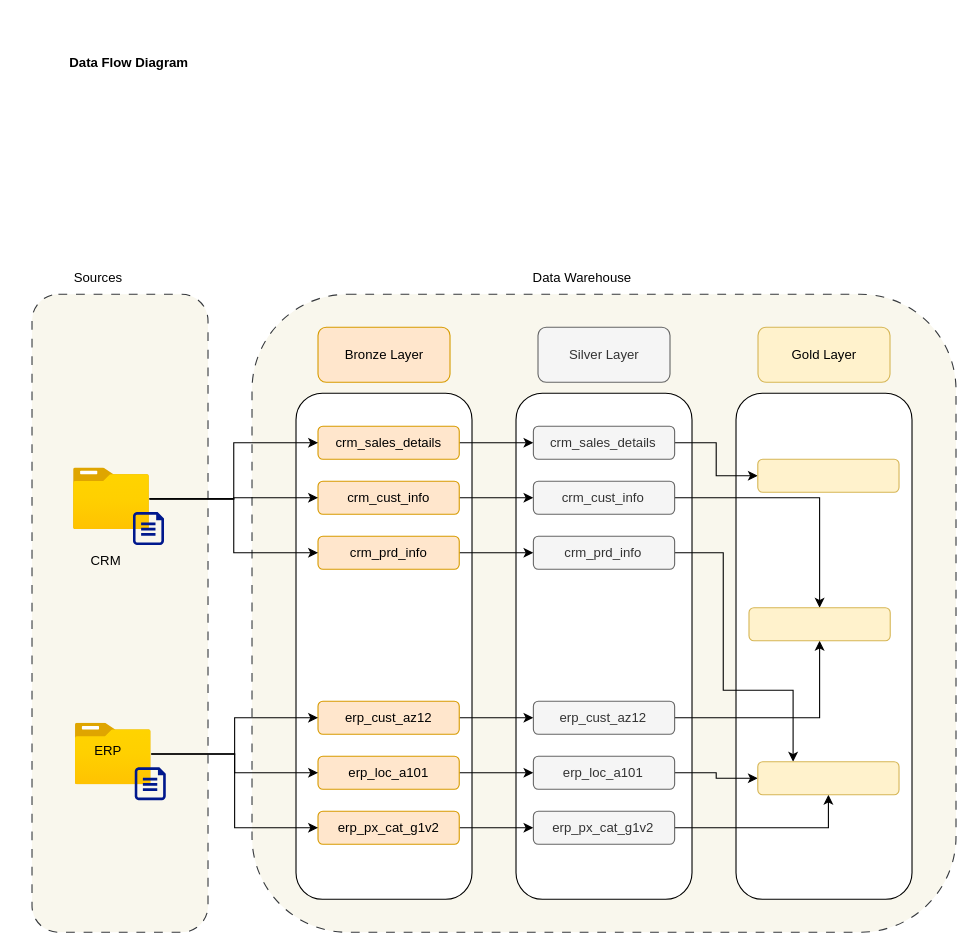
The diagram is 976 pixels wide and 952 high, and some of its shapes have lost their labels. The shapes that lost their labels are listed below. From the top down, each one's box as (x1, y1, x2, y2) in pixels, then its label:
(757, 458, 899, 492): fact_sales
(748, 607, 890, 641): dim_customers
(757, 761, 899, 795): dim_products
